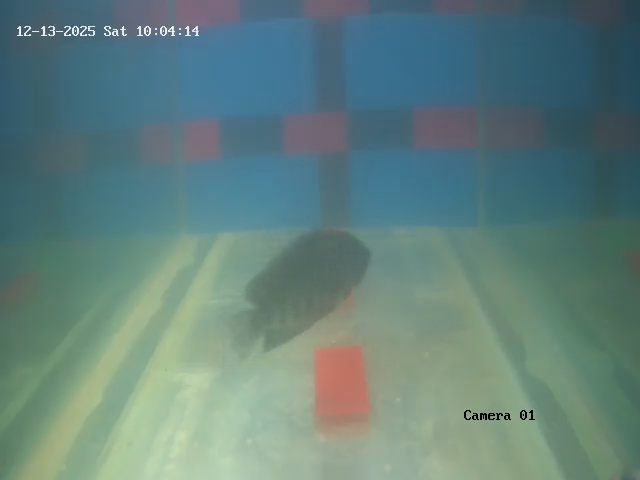fish: (250, 204, 373, 361)
